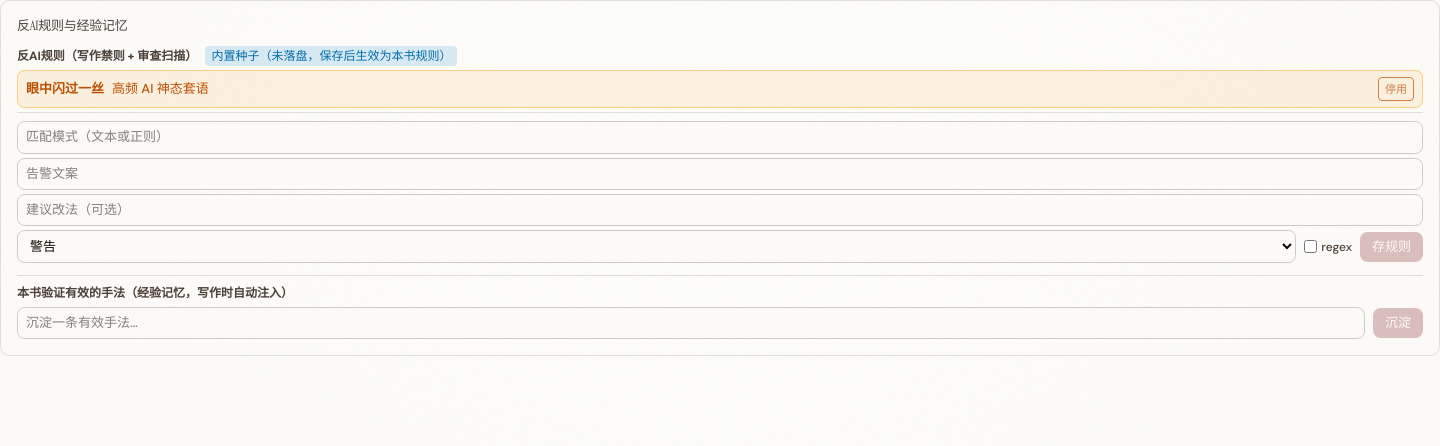
Test: AntiAiAndExperiencePanel 交互（456 号） › 新增规则合并保存——PUT 载荷含种子与新增项且保留原 enabled
The width and height of the screenshot is (1440, 446).
Type "嘴角勾起一抹" into the field with placeholder "匹配模式（文本或正则）".
click(720, 137); type("嘴角勾起一抹")  # box [17, 121, 1423, 154]
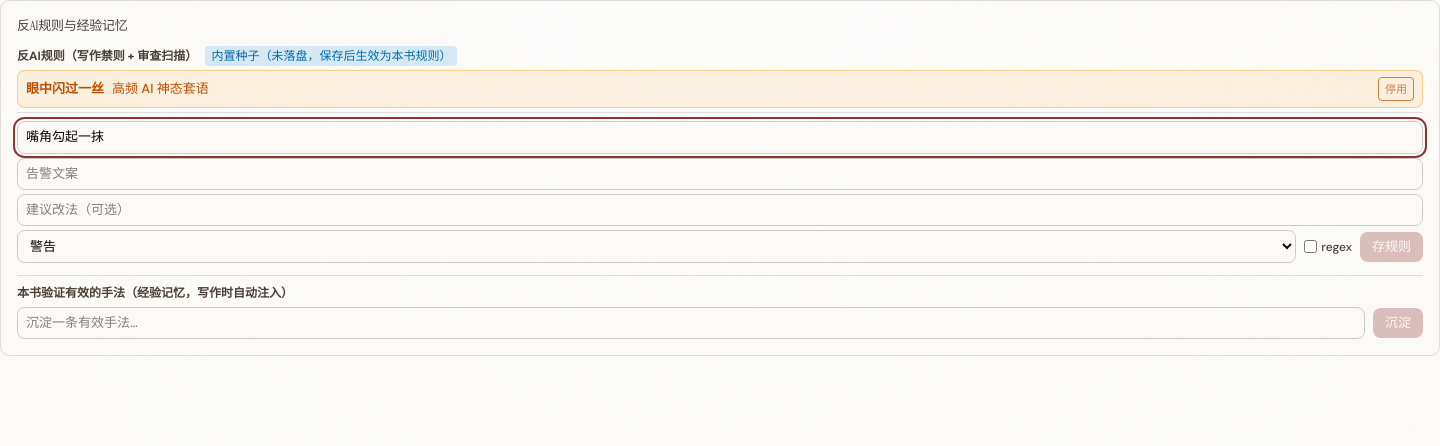
Type "高频表情模板" into the field with placeholder "告警文案".
click(720, 174); type("高频表情模板")  # box [17, 158, 1423, 190]
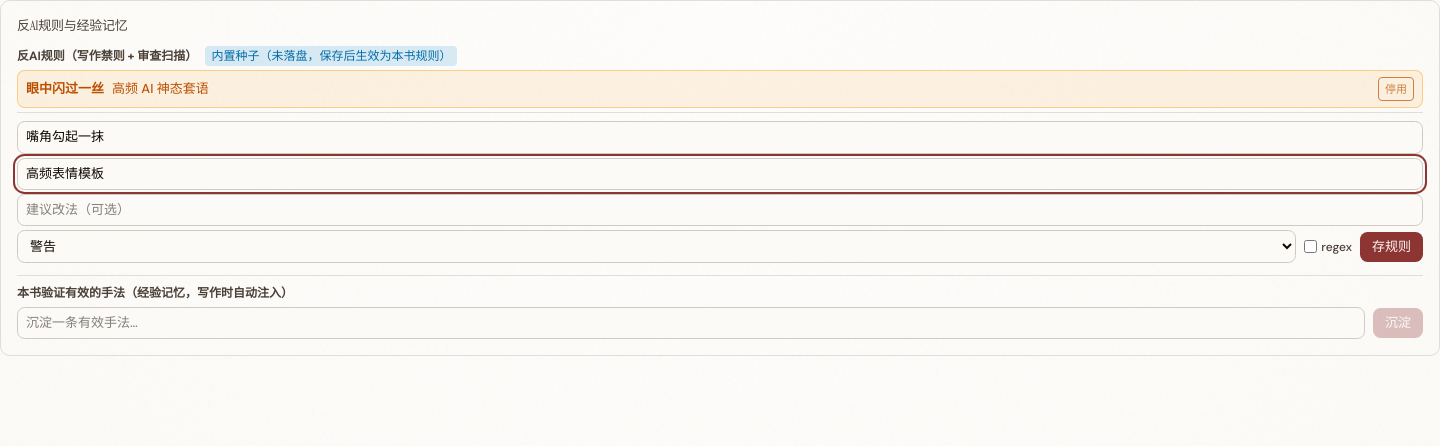
Click the button "存规则".
click(1392, 247)  # box [1360, 232, 1423, 262]
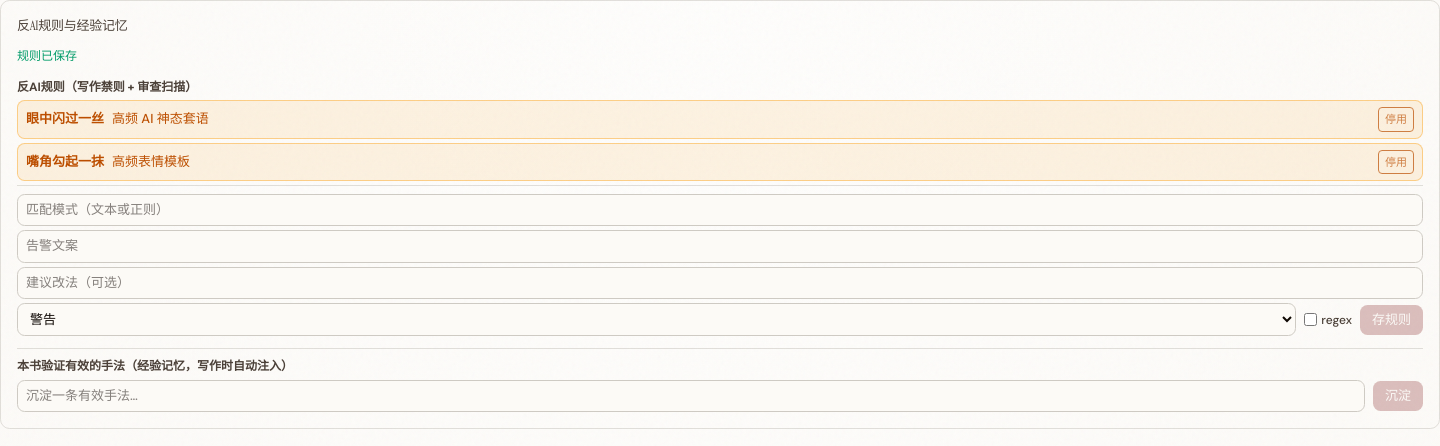
Expected: the text "眼中闪过一丝" is shown, [26, 110, 104, 129]
Now the text "规则已保存" is shown, box [17, 48, 77, 64]
Now the text "嘴角勾起一抹" is shown, box [26, 153, 104, 171]
